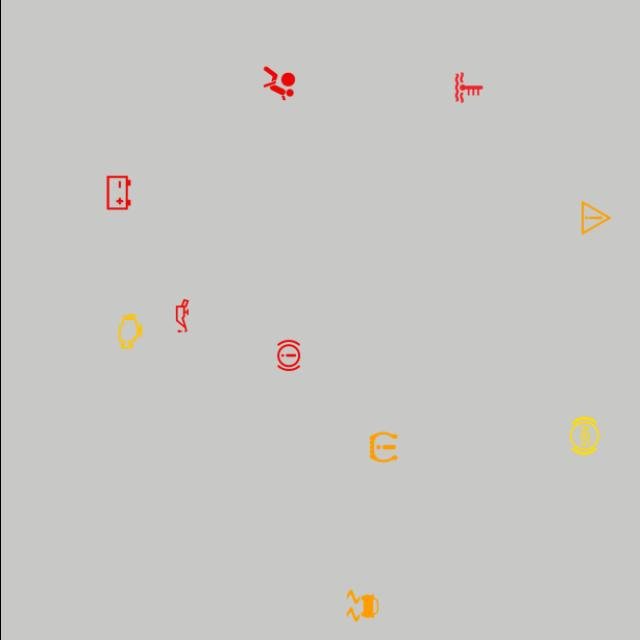Anti Lock Braking System: (562, 414, 604, 456)
Braking System Issue: (266, 334, 308, 376)
Charging System Issue: (97, 172, 139, 214)
Check Engine: (108, 310, 150, 352)
Electronic Stability Problem -ESP-: (340, 584, 382, 626)
Engine Overheating Warning Light: (447, 66, 489, 108)
Low Engine Oil Warning Light: (160, 295, 202, 337)
Low Tire Pressure Warning Light: (362, 426, 404, 468)
Master warning light: (574, 197, 616, 239)
SRS-Airbag: (258, 62, 300, 104)
